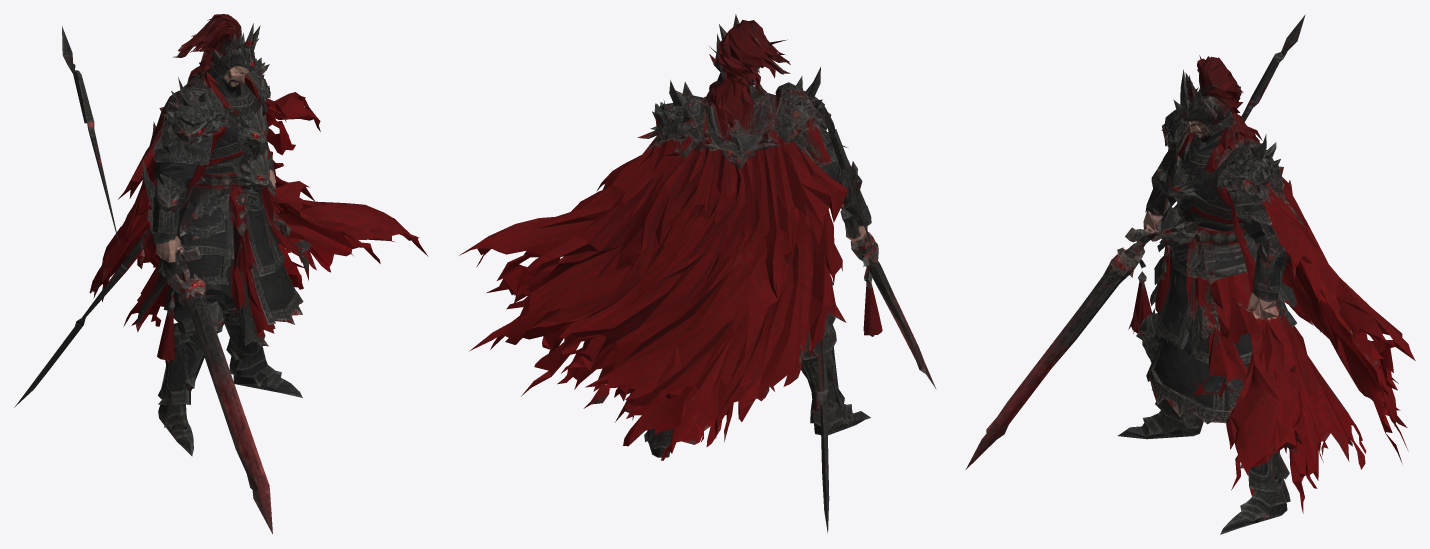
The model's file is CrimsonWarlord_Statue.glb.
3 views of the same model, side by side, from view 1: azimuth 30°, elevation 25°; view 2: azimuth 150°, elevation 25°; view 3: azimuth 270°, elevation 25° (orthographic). The views are drawn at different scales.
Parts seen in each view (by area): view 1: output_unwrapped; view 2: output_unwrapped; view 3: output_unwrapped.
Boxes of the visible parts, <box> form: output_unwrapped: <box>14,14,428,534</box>; output_unwrapped: <box>459,14,936,533</box>; output_unwrapped: <box>965,14,1415,534</box>.
Size of the model in its own units: 1.68 by 1.88 by 1.72.
Materials: 1 (1 with a texture image).
